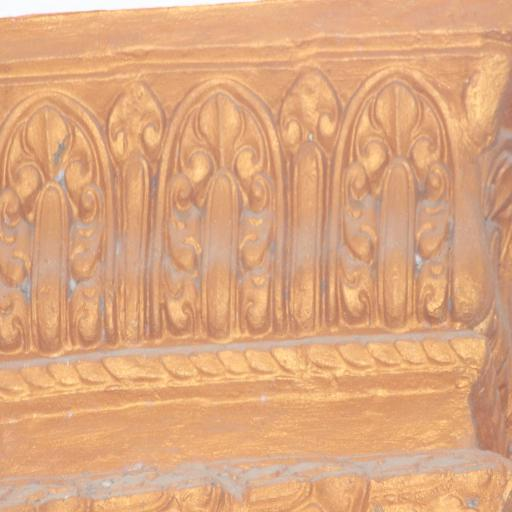la: (330, 66, 452, 332), (158, 79, 273, 338), (0, 88, 106, 349), (276, 68, 327, 338), (108, 77, 156, 344)
